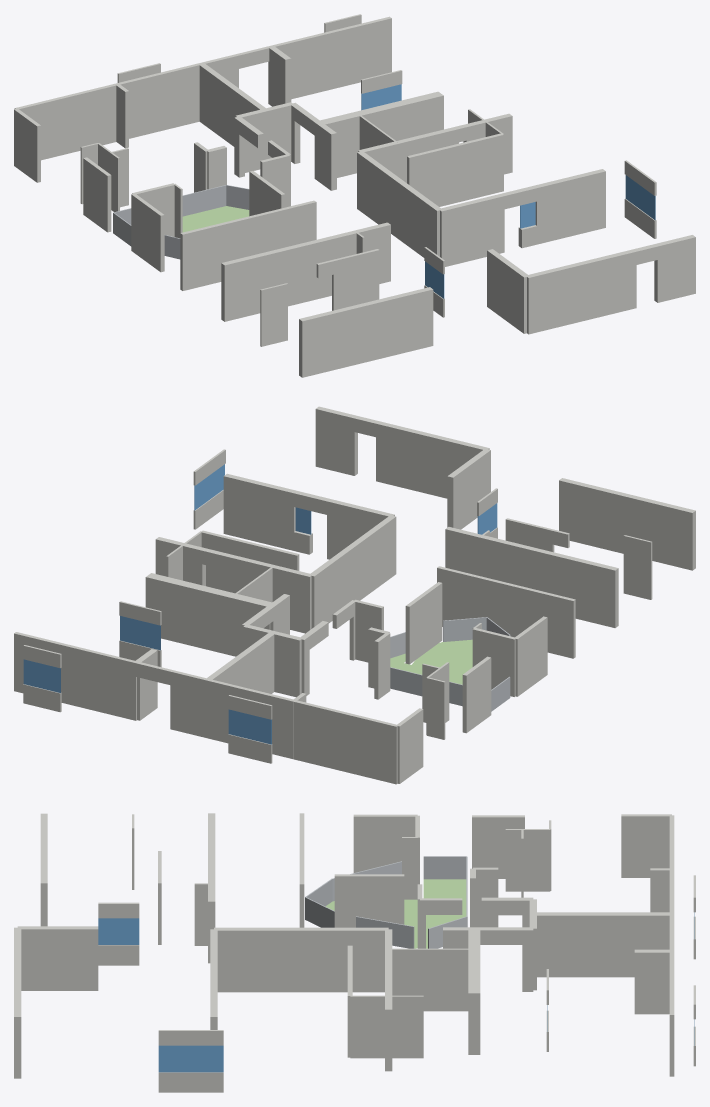
Rendered from Screenshot 2026-10-06 at 14-41-39 Beautiful 2D Floor Plan Ideas To see more Read it👇_3d.obj.
The picture shows the model from 3 angles, top to bottom: view 1: azimuth 30°, elevation 25°; view 2: azimuth 150°, elevation 25°; view 3: azimuth 270°, elevation 25°; orthographic projection. The views are drawn at different scales.
Parts seen in each view (by area): view 1: wall_W26_36, wall_W27_37, wall_W22_31, wall_W20_25, wall_W6_8, wall_W19_24, wall_W45_62, wall_W3_4, wall_W4_5, wall_W21_30, wall_W21_26, wall_W41_56 (+33 smaller); view 2: wall_W26_36, wall_W22_31, wall_W20_25, wall_W3_4, wall_W6_8, wall_W45_62, wall_W27_37, wall_W13_16, wall_W21_30, wall_W4_5, wall_W27_39, wall_W42_57 (+37 smaller); view 3: wall_W45_62, wall_W41_56, wall_W42_57, wall_W46_63, wall_W48_65, wall_W36_48, wall_W28_40, wall_W29_41, wall_W47_64, wall_W30_42, floor_R1_balcony_81, window_N4_71 (+31 smaller).
Part boxes in pixels (x1,y1,x2,y2): wall_W26_36: (299, 287, 433, 377); wall_W27_37: (525, 249, 636, 334); wall_W22_31: (221, 230, 356, 321); wall_W20_25: (180, 200, 316, 290); wall_W6_8: (270, 16, 391, 99); wall_W19_24: (407, 133, 503, 206); wall_W45_62: (357, 151, 442, 257); wall_W3_4: (14, 83, 117, 160); wall_W4_5: (116, 63, 201, 138); wall_W21_30: (534, 169, 605, 244); wall_W21_26: (440, 193, 504, 266); wall_W41_56: (199, 64, 267, 146); wall_W26_36: (559, 478, 695, 570); wall_W22_31: (479, 535, 618, 627); wall_W20_25: (437, 566, 575, 658); wall_W3_4: (293, 700, 398, 784); wall_W6_8: (14, 632, 137, 720); wall_W45_62: (309, 515, 396, 628); wall_W27_37: (376, 421, 489, 498); wall_W13_16: (145, 573, 235, 655); wall_W21_30: (223, 473, 296, 550); wall_W4_5: (207, 679, 294, 758); wall_W27_39: (315, 406, 357, 475); wall_W42_57: (447, 449, 490, 529); wall_W45_62: (214, 927, 388, 992); wall_W41_56: (533, 912, 671, 977); wall_W42_57: (17, 926, 98, 990); wall_W46_63: (388, 948, 474, 1011); wall_W48_65: (350, 995, 423, 1058); wall_W36_48: (334, 874, 404, 927); wall_W28_40: (621, 814, 671, 877); wall_W29_41: (353, 814, 417, 872); wall_W47_64: (634, 949, 671, 1014); wall_W30_42: (472, 815, 524, 878); floor_R1_balcony_81: (325, 879, 466, 948); window_N4_71: (158, 1045, 223, 1072).
Size of the model in its own units: 20.84 by 2.75 by 27.56.
